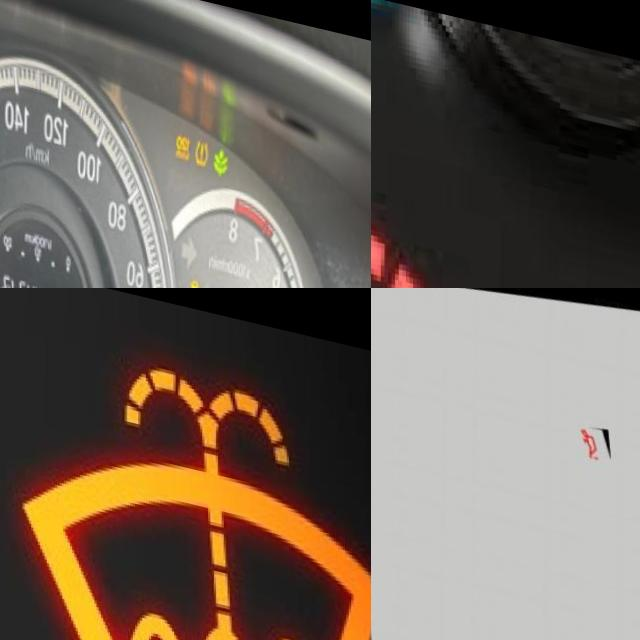Washer Fluid: (18, 334, 371, 640), (371, 184, 636, 288)
